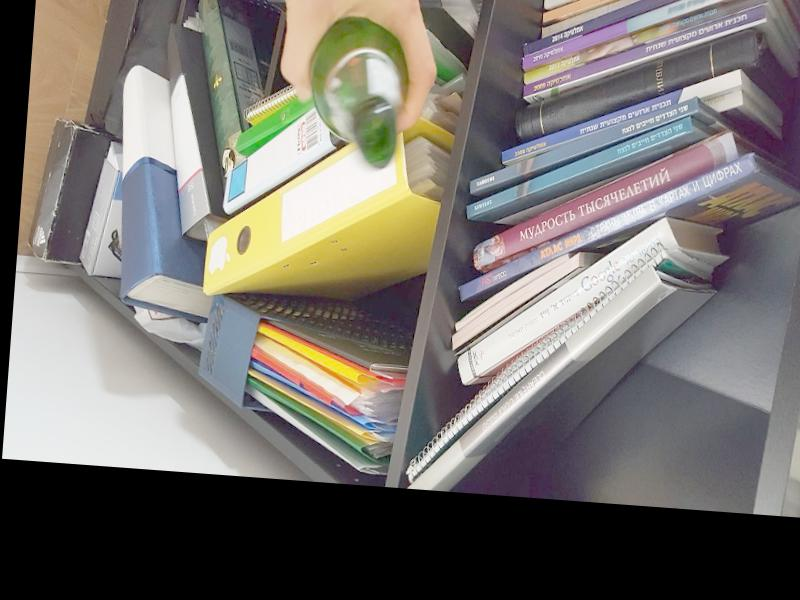Beer: (303, 13, 411, 169)
